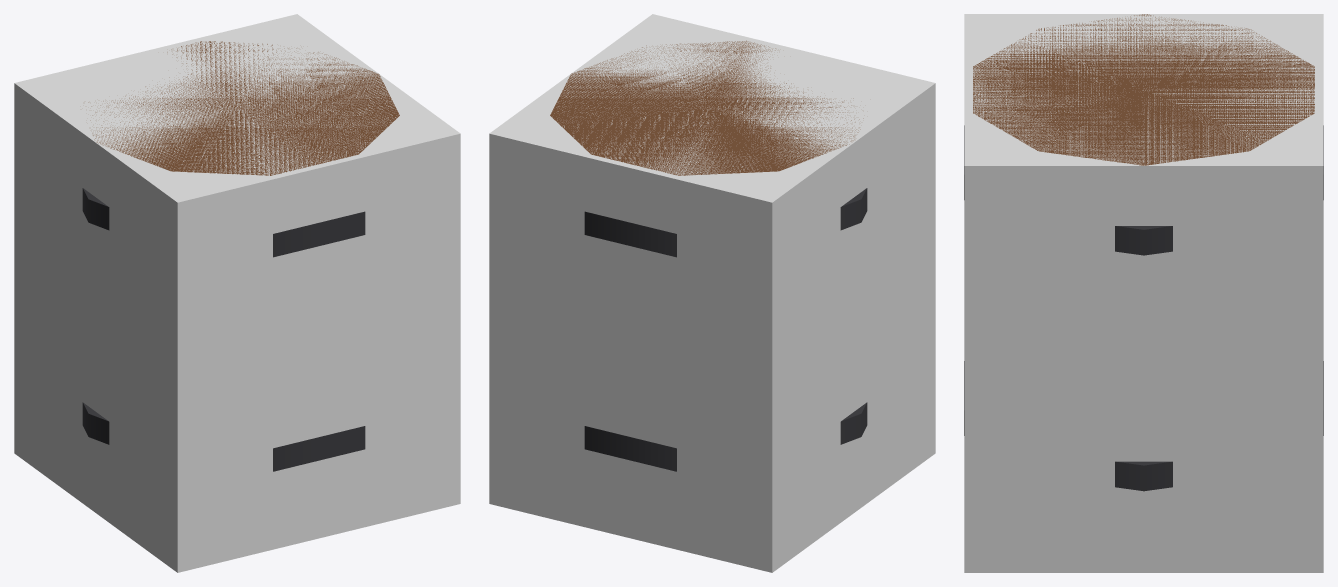
File: barril.glb
3 renders of one model, left to right at view 1: azimuth 30°, elevation 25°; view 2: azimuth 150°, elevation 25°; view 3: azimuth 270°, elevation 25°, orthographic. The views are drawn at different scales.
Visible parts, largest first — view 1: COL_0, barril_Malla; view 2: COL_0, barril_Malla; view 3: COL_0, barril_Malla.
Boxes of the visible parts, bbox=[...] form: COL_0: bbox=[14, 14, 460, 572]; barril_Malla: bbox=[82, 41, 399, 471]; COL_0: bbox=[489, 14, 935, 572]; barril_Malla: bbox=[550, 40, 867, 471]; COL_0: bbox=[964, 14, 1323, 572]; barril_Malla: bbox=[964, 14, 1323, 491].
Size of the model in its own units: 0.8 by 0.95 by 0.7608.
